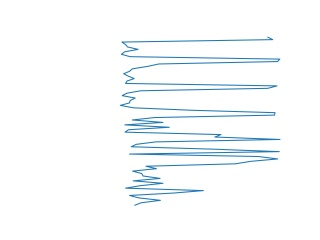crevasseRiverChannelBar: (125, 161, 269, 207)
majorRiverBedLagDeposit: (120, 121, 285, 162)
majorRiverChannelBar: (116, 34, 283, 117)
